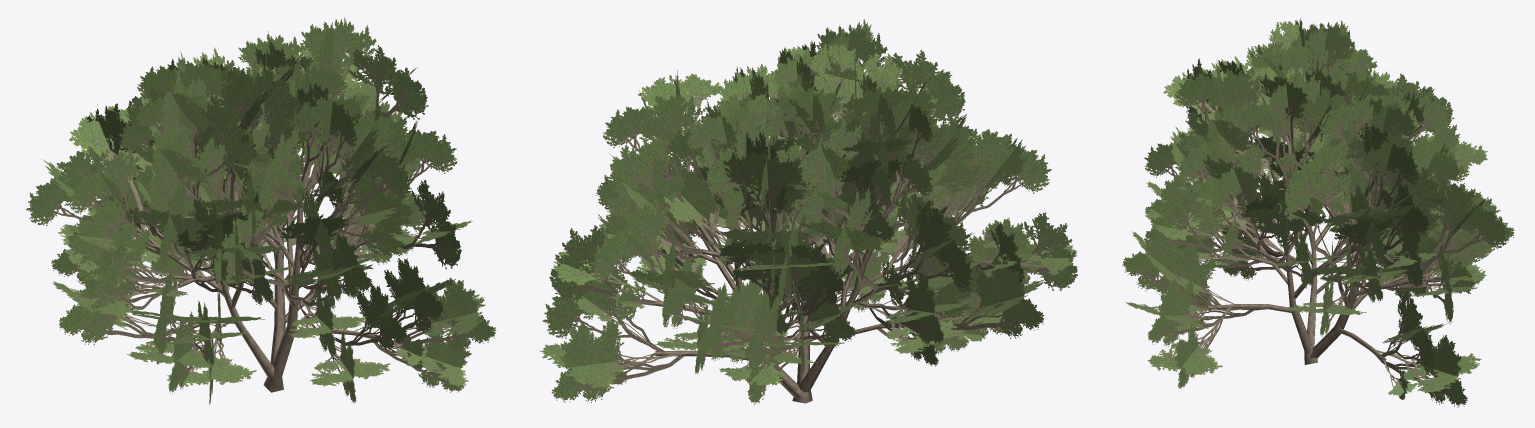
Rendered from FicusBenjamina.glb.
3 renders of one model, left to right at view 1: azimuth 30°, elevation 25°; view 2: azimuth 150°, elevation 25°; view 3: azimuth 270°, elevation 25°, orthographic. The views are drawn at different scales.
Parts seen in each view (by area): view 1: Ficus__Realistic_LOD3; view 2: Ficus__Realistic_LOD3; view 3: Ficus__Realistic_LOD3.
Boxes of the visible parts, x1,y1,x2,y2 form: Ficus__Realistic_LOD3: (25,17,496,405); Ficus__Realistic_LOD3: (540,19,1077,404); Ficus__Realistic_LOD3: (1122,18,1514,407).
Bounding box in the file's own units: 40.49 × 32.28 × 36.7.
1 material, 1 textured.
